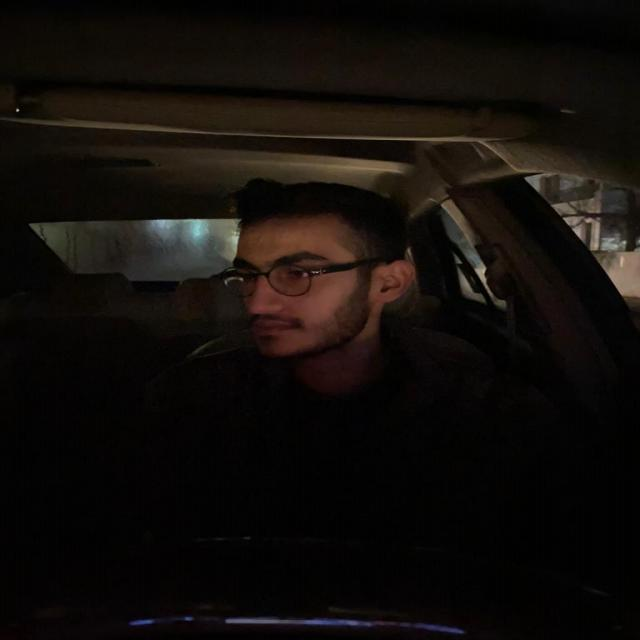LeftRight: (220, 172, 420, 358)
